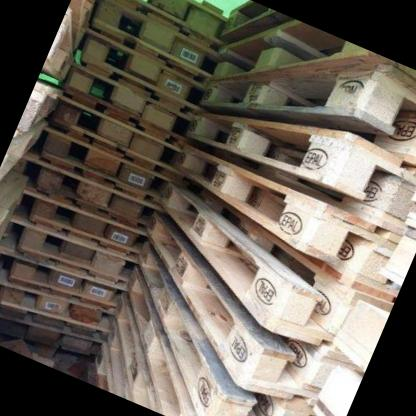BoxFace: (171, 144, 375, 263), (181, 112, 416, 202), (158, 180, 293, 326)
